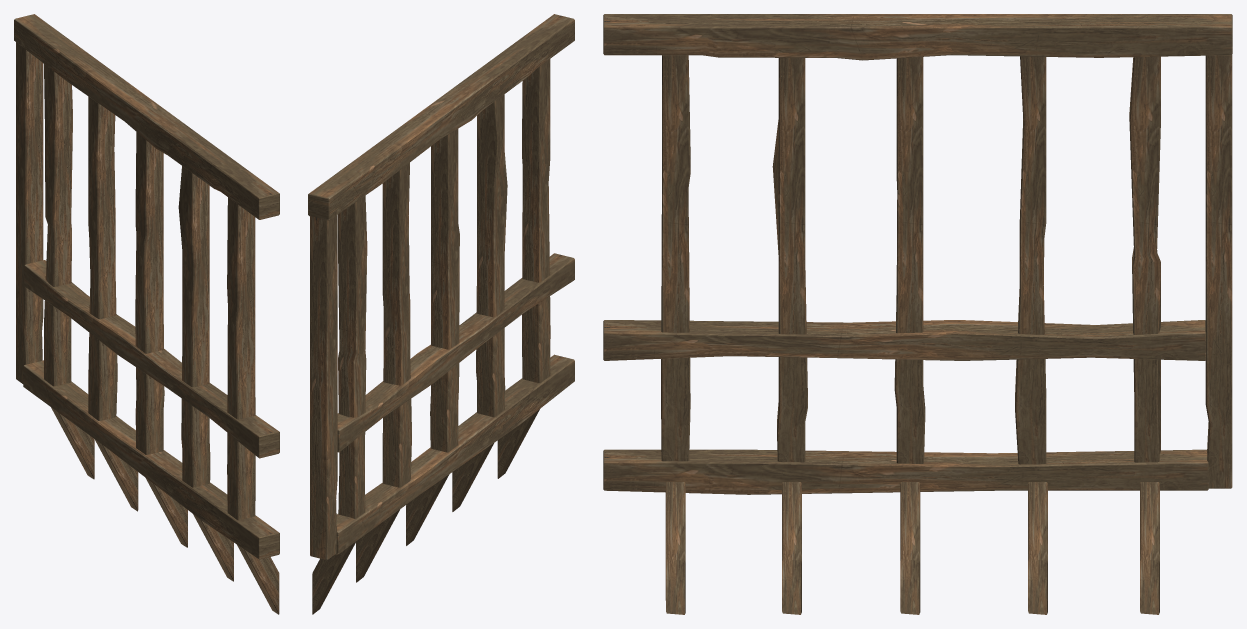
File: SM_wooden_structure_01.fbx
The picture shows the model from 3 angles, left to right: view 1: azimuth 30°, elevation 25°; view 2: azimuth 150°, elevation 25°; view 3: azimuth 270°, elevation 25°; orthographic projection. The views are drawn at different scales.
Parts seen in each view (by area): view 1: SM_wooden_structure_01_LOD0; view 2: SM_wooden_structure_01_LOD0; view 3: SM_wooden_structure_01_LOD0.
Boxes of the visible parts, left/top/right/bottom form: SM_wooden_structure_01_LOD0: left=14, top=14, right=279, bottom=614; SM_wooden_structure_01_LOD0: left=308, top=14, right=574, bottom=614; SM_wooden_structure_01_LOD0: left=603, top=14, right=1232, bottom=614.
Size of the model in its own units: 116 by 1044 by 1049.
1 material, 1 textured.
